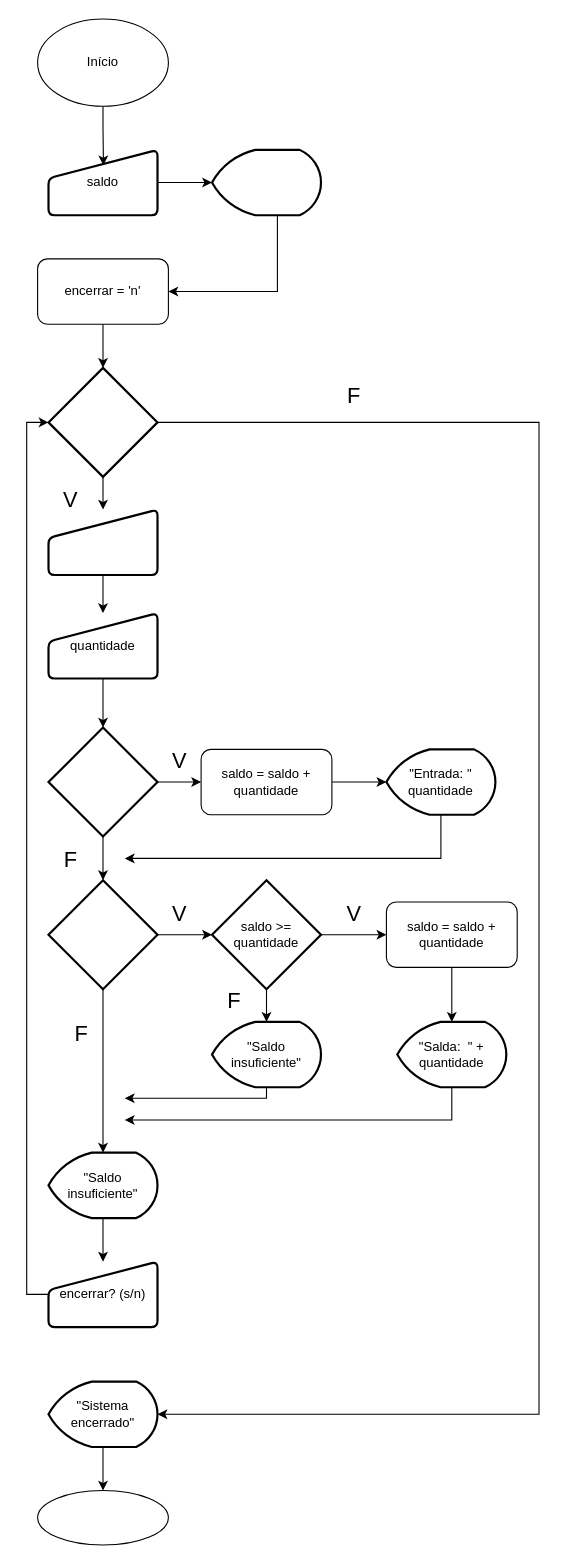
This 567x1564 diagram has some shape labels left out. Each missing label, with the centre of its shape:
"encerrar ='n'" goes at (x=102, y=421).
"Fim" goes at (x=102, y=1517).
"Saldo inicial: saldo" goes at (x=266, y=182).
"tipo de entrada" goes at (x=102, y=542).
"tipo de entrada = 1" goes at (x=102, y=781).
"tipo de entrada = 2" goes at (x=102, y=934).
